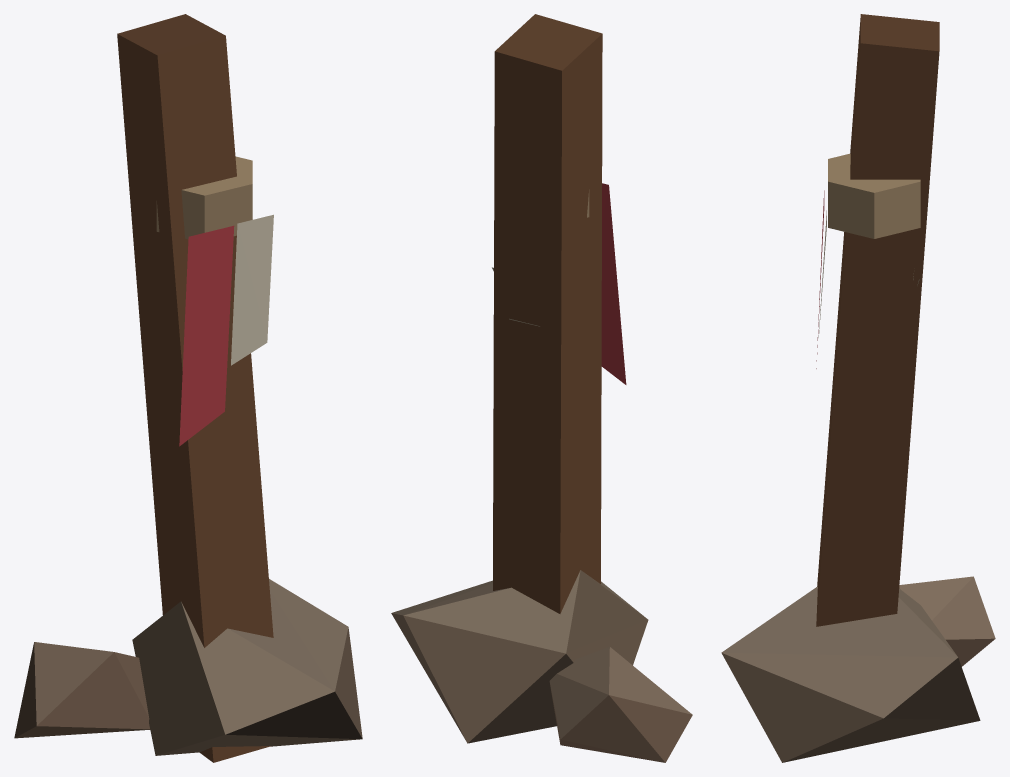
File: tl_env_shrine_post_v01.glb
3 renders of one model, left to right at view 1: azimuth 30°, elevation 25°; view 2: azimuth 150°, elevation 25°; view 3: azimuth 270°, elevation 25°, orthographic. The views are drawn at different scales.
Visible parts, largest first — view 1: tl_env_shrine_post_v01; view 2: tl_env_shrine_post_v01; view 3: tl_env_shrine_post_v01.
Boxes of the visible parts, x1,y1,x2,y2 form: tl_env_shrine_post_v01: (14,14,362,762); tl_env_shrine_post_v01: (391,14,692,762); tl_env_shrine_post_v01: (721,14,995,762).
Bounding box in the file's own units: 0.6773 × 1.46 × 0.5382.
